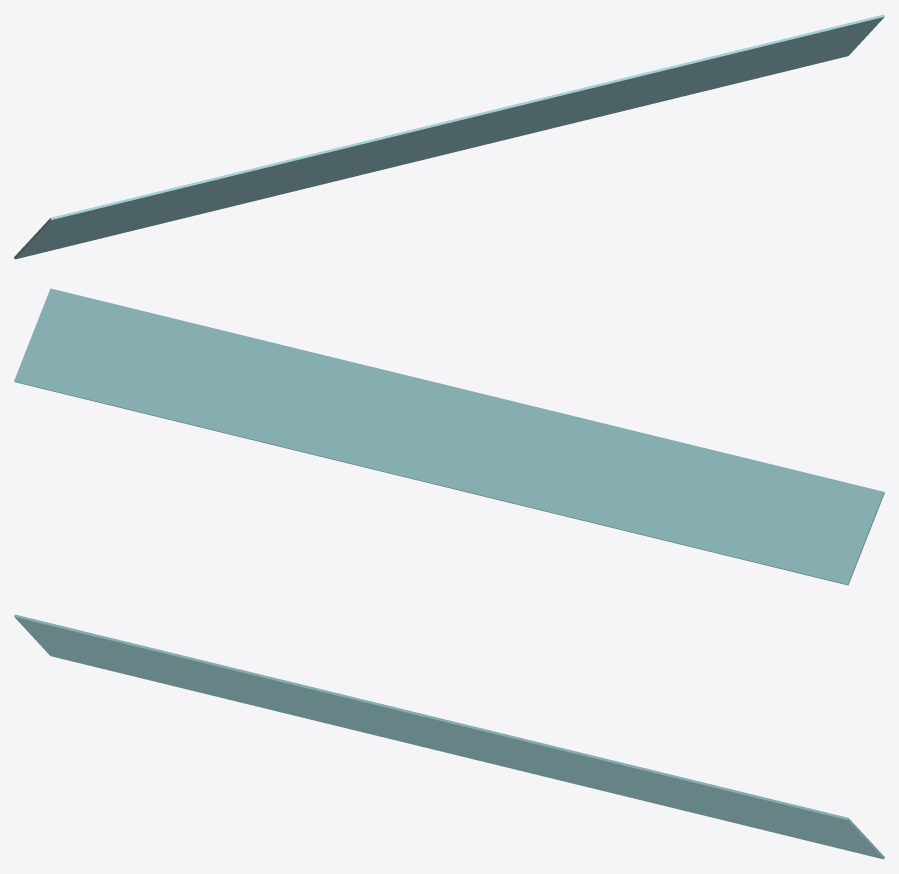
The model's file is Itr_Airconditioner3_Wing1_04.FBX.
The picture shows the model from 3 angles, top to bottom: view 1: azimuth 30°, elevation 25°; view 2: azimuth 150°, elevation 25°; view 3: azimuth 330°, elevation 25°; orthographic projection.
Visible parts, largest first — view 1: Itr_Airconditioner3_Wing1_04; view 2: Itr_Airconditioner3_Wing1_04; view 3: Itr_Airconditioner3_Wing1_04.
Boxes of the visible parts, x1,y1,x2,y2 form: Itr_Airconditioner3_Wing1_04: (14,14,884,259); Itr_Airconditioner3_Wing1_04: (14,288,884,585); Itr_Airconditioner3_Wing1_04: (14,614,884,859).
Size of the model in its own units: 51.51 by 4 by 4.
